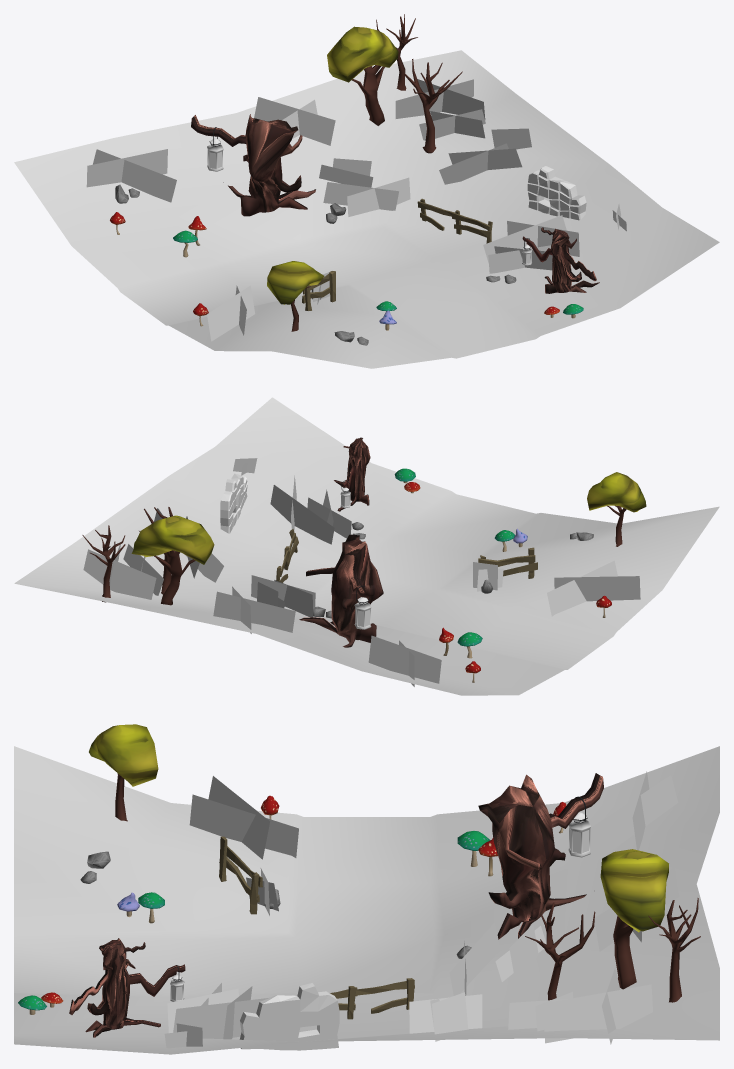
The model's file is environment5 (1).fbx.
The picture shows the model from 3 angles, top to bottom: view 1: azimuth 30°, elevation 25°; view 2: azimuth 150°, elevation 25°; view 3: azimuth 270°, elevation 25°; orthographic projection. The views are drawn at different scales.
Parts seen in each view (by area): view 1: Plane.026, Cylinder.027, Sphere.006, Cube.023, Cylinder.034, Plane.175, Sphere.007, Plane.184, Plane.178, Plane.189, Plane.172, Plane.176 (+16 smaller); view 2: Plane.026, Cylinder.027, Sphere.006, Plane.178, Plane.180, Plane.174, Sphere.007, Plane.189, Plane.194, Cylinder.034, Plane.190, Cube.023 (+7 smaller); view 3: Plane.026, Cylinder.027, Cube.023, Sphere.006, Cylinder.034, Plane.181, Sphere.007, Plane.190, Plane.184, Plane.195, Plane.176, Plane.189 (+15 smaller).
Part boxes in pixels (x1,y1,x2,y2): Plane.026: (14,50,719,368); Cylinder.027: (191,114,315,216); Sphere.006: (327,26,398,82); Cube.023: (527,166,586,220); Cylinder.034: (522,227,599,293); Plane.175: (254,97,335,145); Sphere.007: (267,261,324,304); Plane.184: (93,149,176,202); Plane.178: (86,149,167,187); Plane.189: (207,285,255,341); Plane.172: (404,59,462,153); Plane.176: (323,182,398,210); Plane.026: (14,397,719,695); Cylinder.027: (299,534,383,647); Sphere.006: (131,515,214,564); Plane.178: (368,635,441,683); Plane.180: (83,549,156,599); Plane.174: (213,591,295,632); Sphere.007: (587,472,646,512); Plane.189: (554,576,640,601); Plane.194: (270,485,334,544); Cylinder.034: (334,437,370,511); Plane.190: (547,560,617,616); Cube.023: (220,473,247,533); Plane.026: (14,746,719,1054); Cylinder.027: (478,773,603,939); Cube.023: (239,983,339,1050); Sphere.006: (600,849,668,932); Cylinder.034: (69,938,185,1037); Plane.181: (543,984,652,1043); Sphere.007: (89,724,158,786); Plane.190: (189,794,298,857); Plane.184: (588,775,677,863); Plane.195: (173,998,268,1038); Plane.176: (449,922,500,995); Plane.189: (208,776,269,859).
Size of the model in its own units: 2250 by 651 by 2250.
